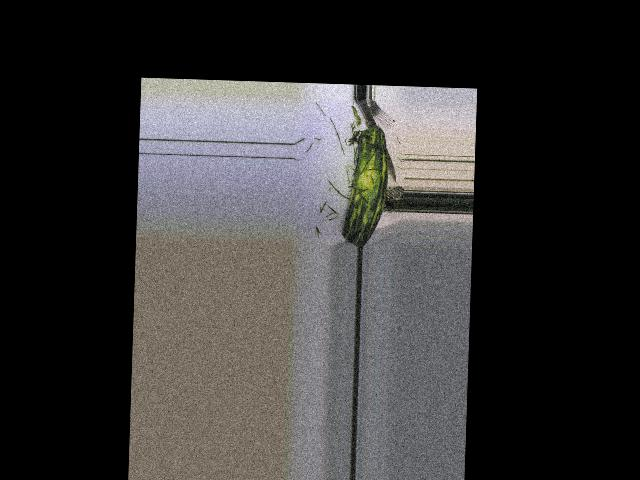cucumber: (341, 125, 389, 247)
